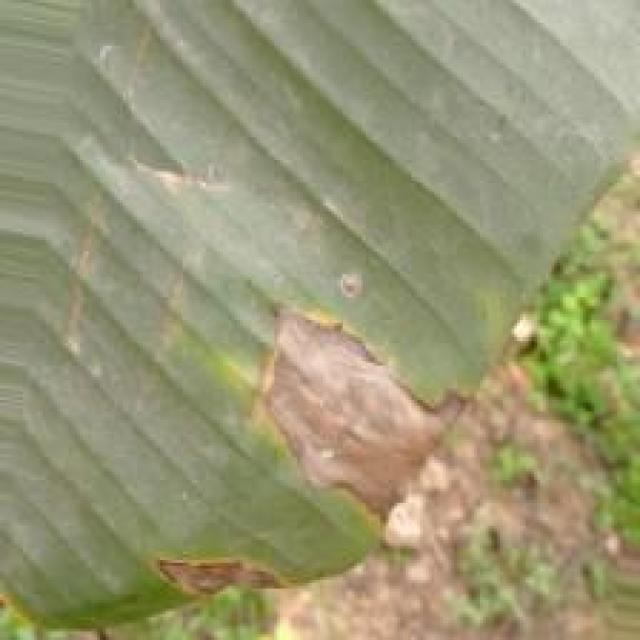Bacterial_spot: (243, 288, 460, 527), (122, 236, 216, 395), (41, 195, 116, 363), (113, 123, 256, 207), (136, 534, 284, 612), (322, 270, 363, 312)
